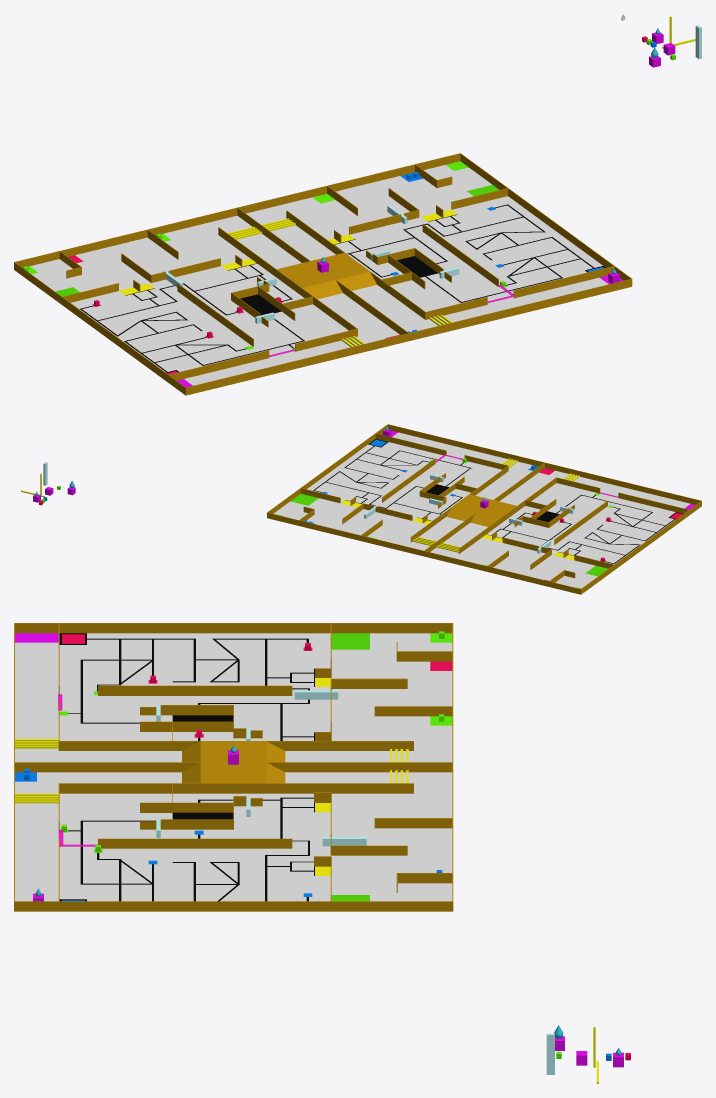
Rendered from track.glb.
3 views of the same model, one above another, from view 1: azimuth 30°, elevation 25°; view 2: azimuth 150°, elevation 25°; view 3: azimuth 270°, elevation 25° (orthographic). The views are drawn at different scales.
Visible parts, largest first — view 1: Geom3D (×4); view 2: Geom3D (×5); view 3: Geom3D (×4).
Boxes of the visible parts, <box> form: Geom3D (×4): <box>14,153,632,395</box>; Geom3D (×5): <box>267,424,701,594</box>; Geom3D (×4): <box>14,623,453,911</box>.
Size of the model in its own units: 9.93 by 0.5 by 6.26.
11 materials, 1 textured.
